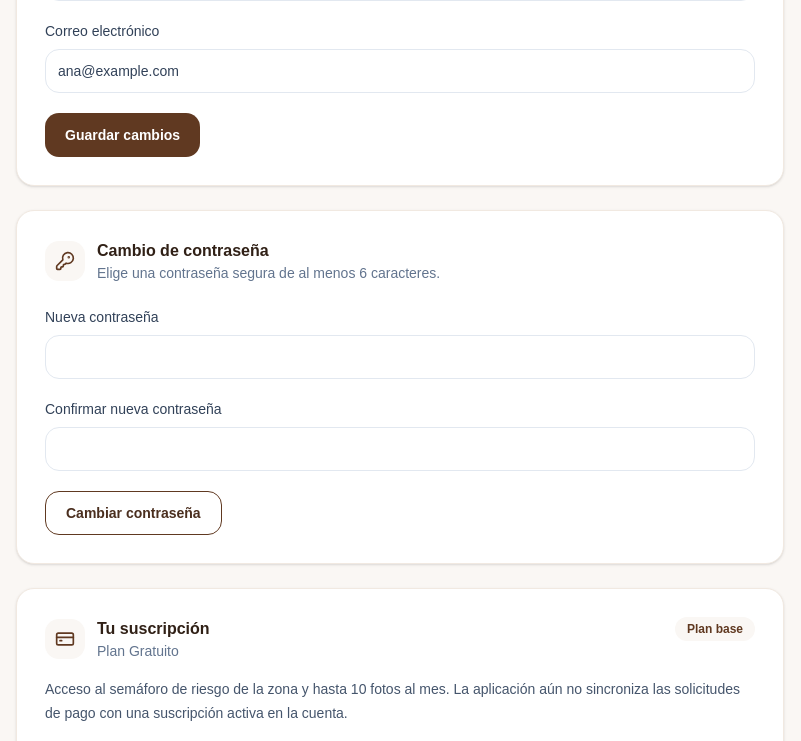
Scenario: AccountSettings › no intenta cambiar la contraseña si la confirmación no coincide
(page scrolled)
Type "clave123" into the password field labelled "Nueva contraseña" at (400, 357), box [45,335,755,379]
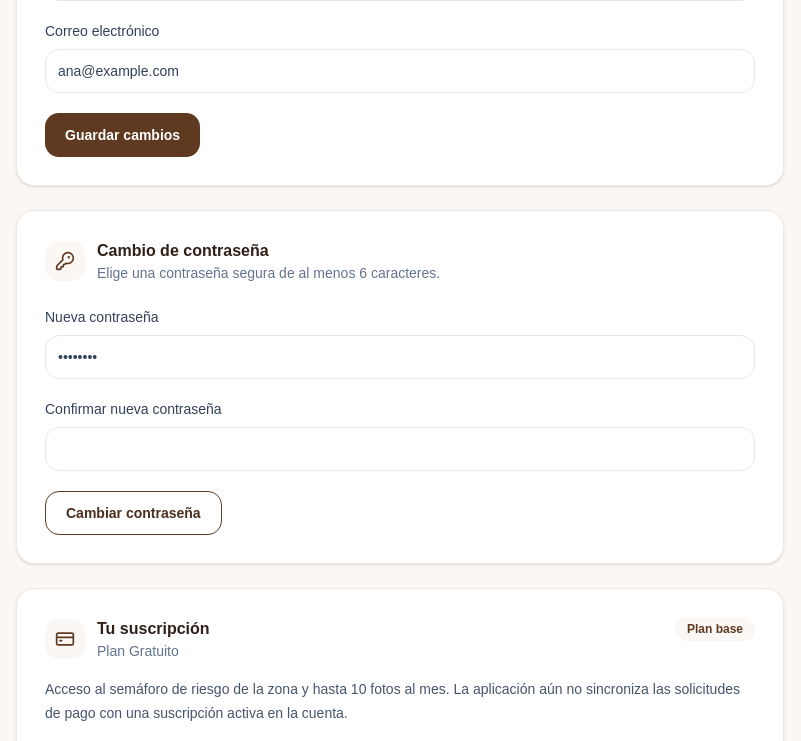
Type "clave456" into the password field labelled "Confirmar nueva contraseña" at (400, 449), box [45,427,755,471]
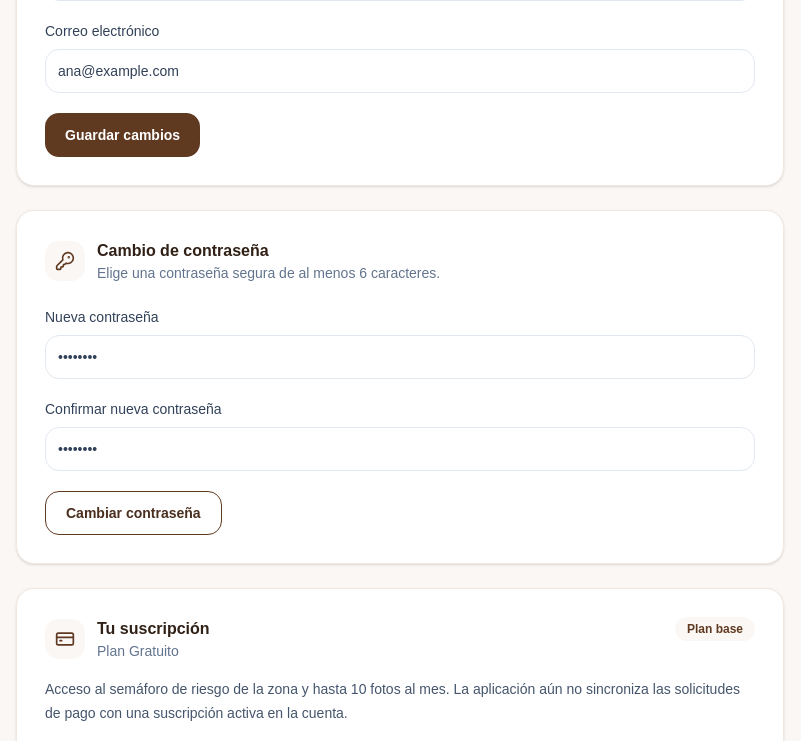
Click the button "Cambiar contraseña" at (133, 513), box [45,491,222,535]
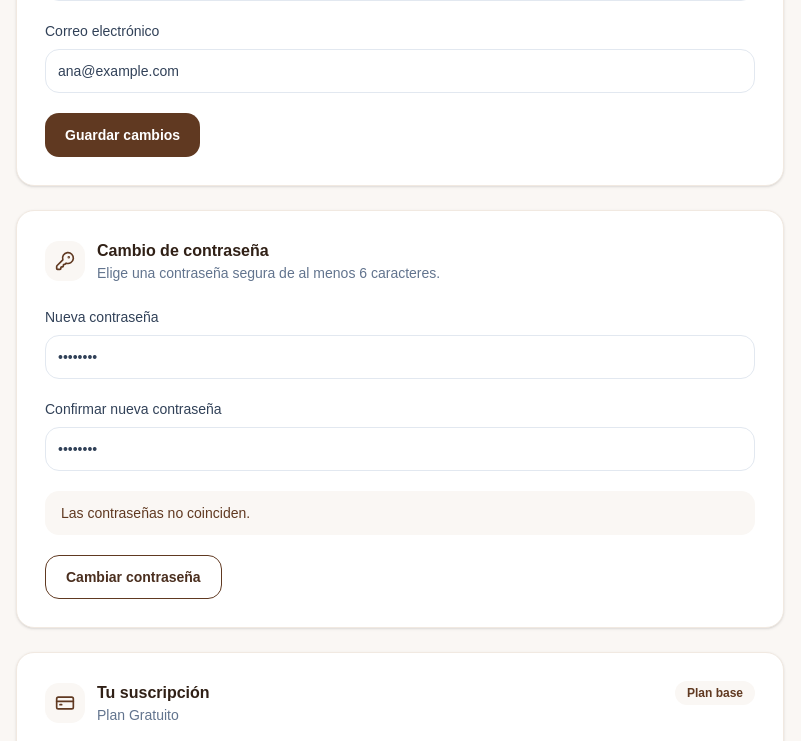
Expected: the message reads "Las contraseñas no coinciden.", [61,505,250,521]
